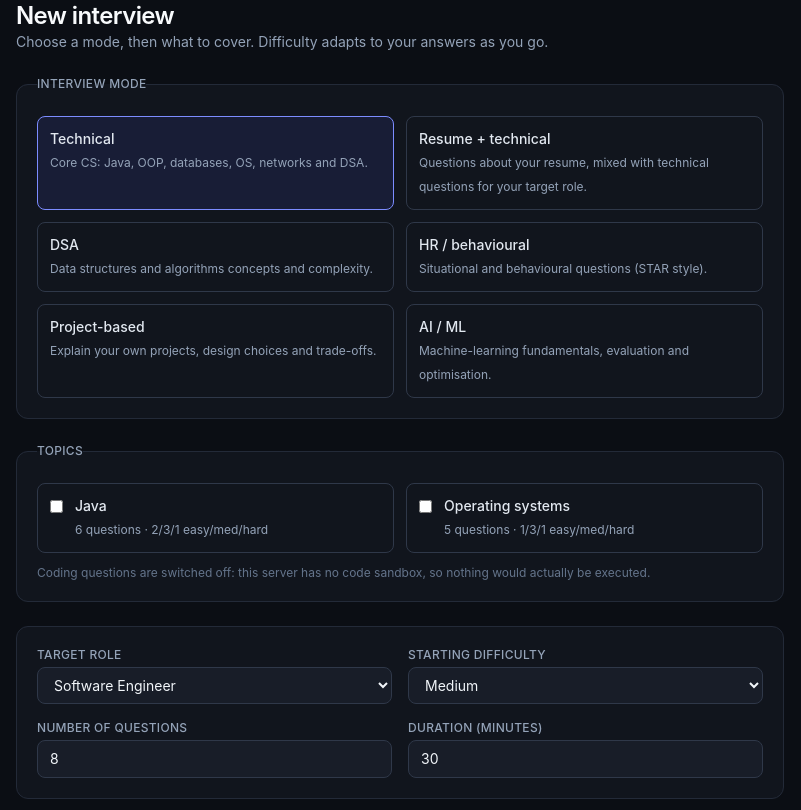
Scenario: InterviewSetup › shows only the topics that belong to the chosen mode and preselects single-topic modes
The width and height of the screenshot is (801, 810).
Expected: the checkbox labelled "Java" is shown, [50,500,63,513]
Expected: the field labelled "Behavioural / HR" is not shown
Click the radio button with aria-label "HR / behavioural mode".
click(474, 244)  # box [406,222,763,292]
(page scrolled)
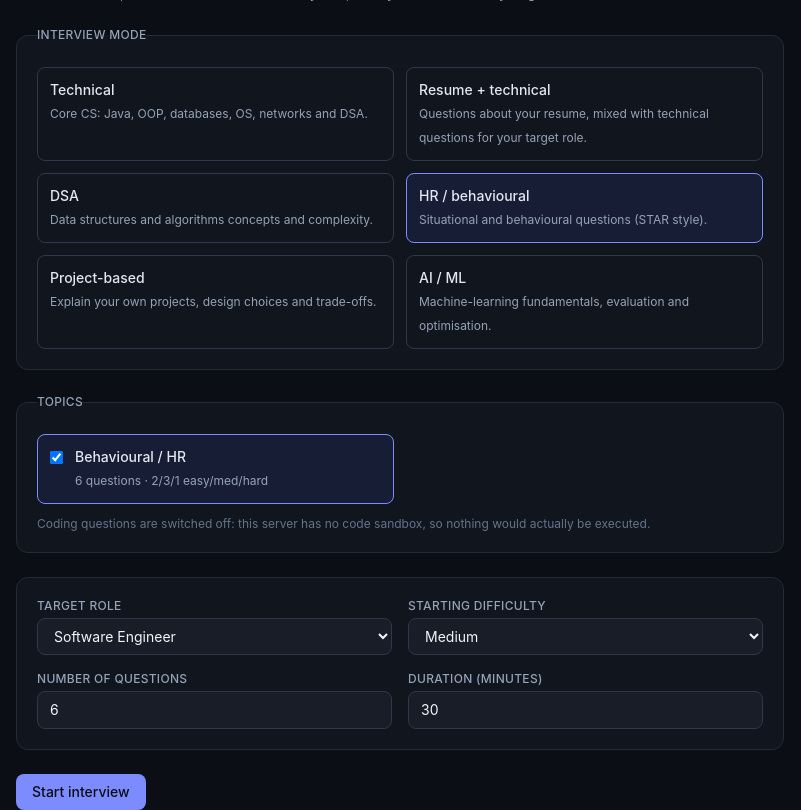
Result: the checkbox labelled "Behavioural / HR" is checked at [50,451,63,464]
Result: the number field labelled "Number of questions" holds "6" at [37,691,392,729]
Result: the button "Start interview" is enabled at [16,774,146,809]
